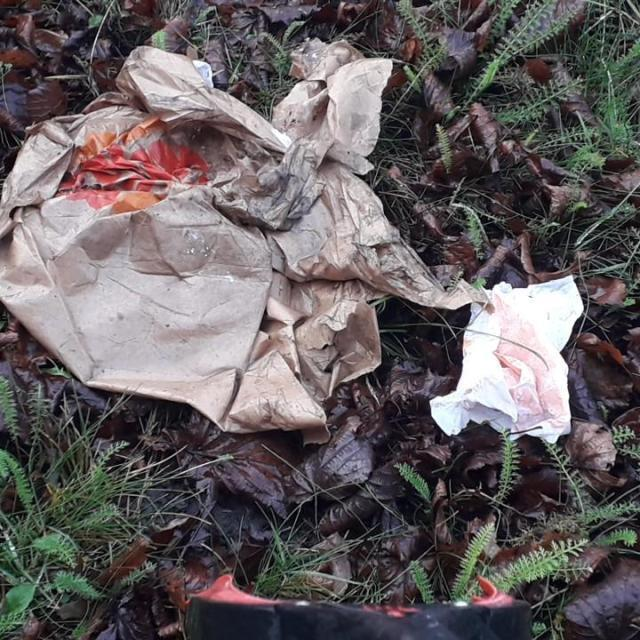Paper: (0, 37, 498, 440)
